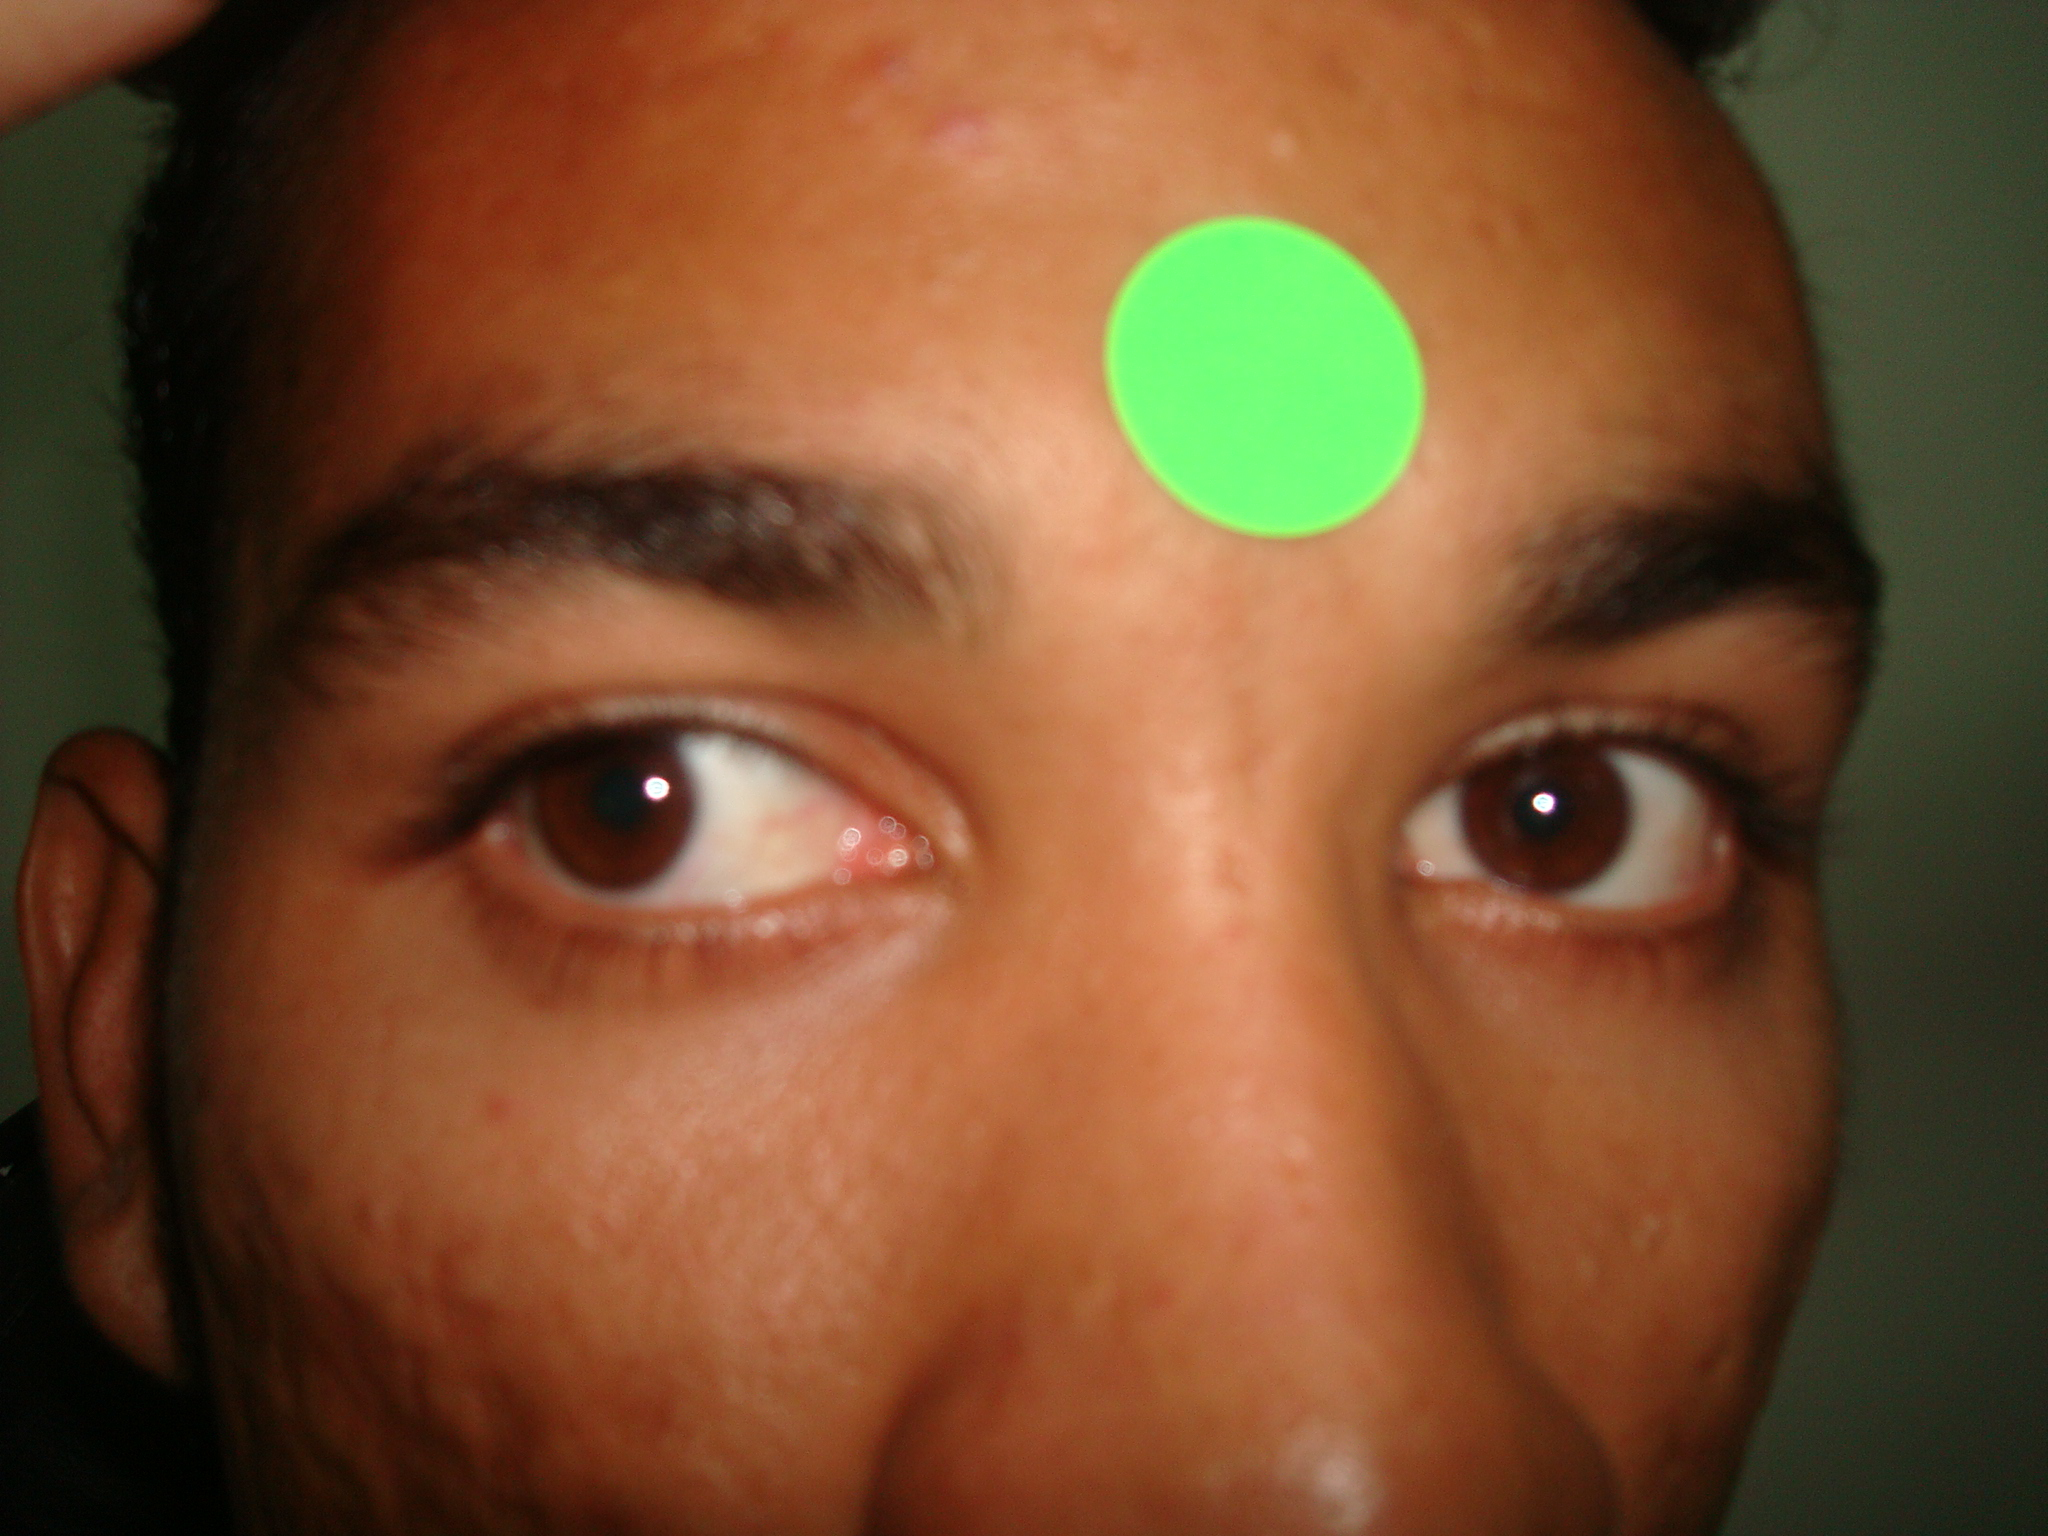flash: (1526, 786, 1559, 820), (642, 773, 672, 803)
limbo: (539, 716, 708, 892), (1458, 731, 1630, 892)
